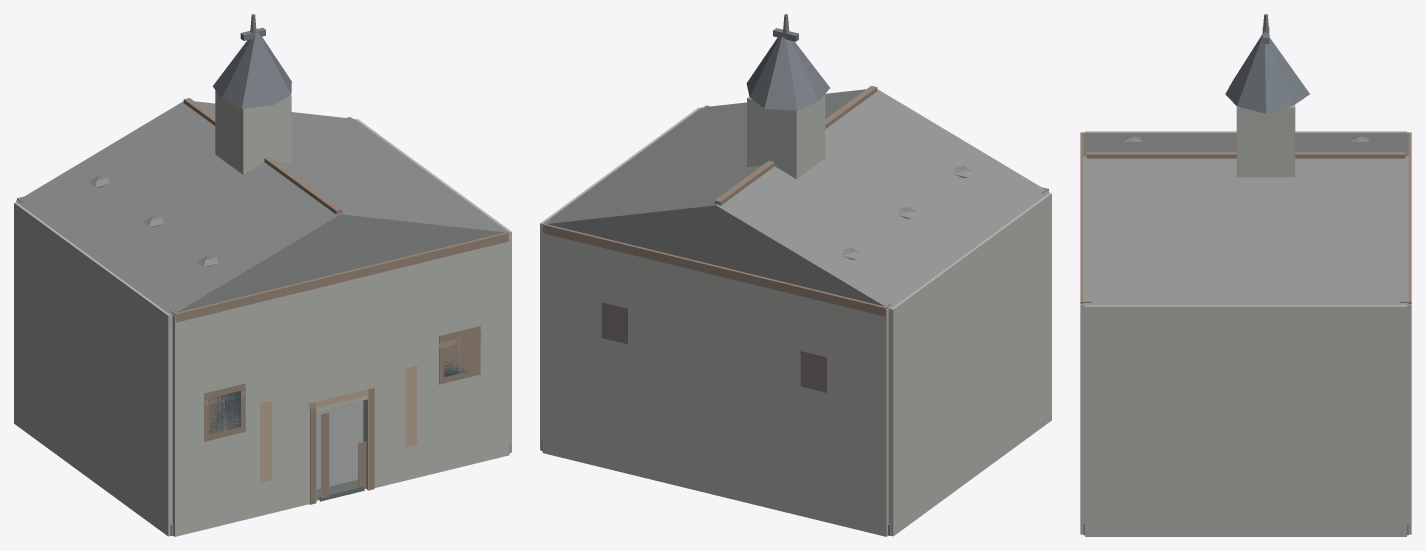
File: morning_chapel_abandoned.glb
3 views of the same model, side by side, from view 1: azimuth 30°, elevation 25°; view 2: azimuth 150°, elevation 25°; view 3: azimuth 270°, elevation 25° (orthographic). The views are drawn at different scales.
Visible parts, largest first — view 1: morning_chapel_mat_01, morning_chapel_mat_00, morning_chapel_mat_02, morning_chapel_mat_08, morning_chapel_mat_03, morning_chapel_mat_05; view 2: morning_chapel_mat_01, morning_chapel_mat_00, morning_chapel_mat_02, morning_chapel_mat_08, morning_chapel_mat_07; view 3: morning_chapel_mat_01, morning_chapel_mat_00, morning_chapel_mat_08, morning_chapel_mat_02.
Boxes of the visible parts, x1,y1,x2,y2 form: morning_chapel_mat_01: (14, 90, 511, 536); morning_chapel_mat_00: (16, 101, 510, 535); morning_chapel_mat_02: (17, 98, 508, 504); morning_chapel_mat_08: (213, 28, 291, 108); morning_chapel_mat_03: (260, 365, 417, 482); morning_chapel_mat_05: (208, 362, 467, 433); morning_chapel_mat_01: (540, 94, 1051, 536); morning_chapel_mat_00: (541, 89, 1049, 535); morning_chapel_mat_02: (543, 85, 1048, 316); morning_chapel_mat_08: (746, 30, 829, 110); morning_chapel_mat_07: (601, 302, 827, 392); morning_chapel_mat_01: (1080, 104, 1411, 536); morning_chapel_mat_00: (1083, 132, 1408, 535); morning_chapel_mat_08: (1225, 31, 1309, 113); morning_chapel_mat_02: (1080, 132, 1411, 303).
Bounding box in the file's own units: 4.97 × 5.76 × 3.98.
